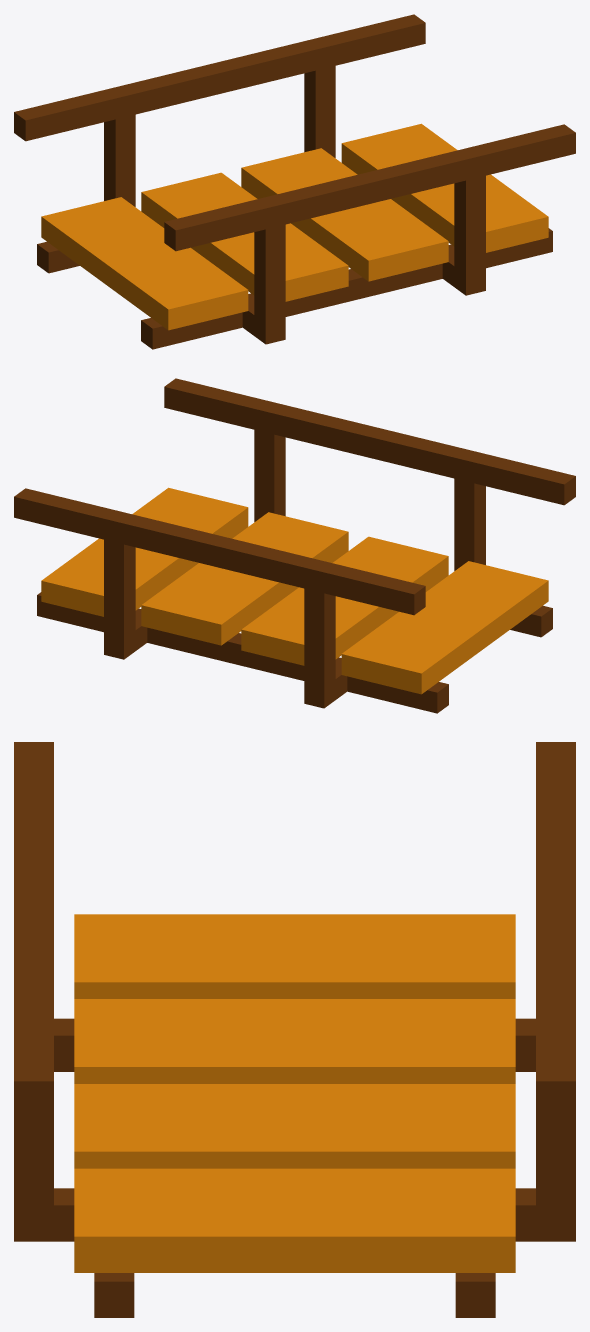
The model's file is fence.fbx.
3 views of the same model, one above another, from view 1: azimuth 30°, elevation 25°; view 2: azimuth 150°, elevation 25°; view 3: azimuth 270°, elevation 25° (orthographic). The views are drawn at different scales.
Parts seen in each view (by area): view 1: Cube; view 2: Cube; view 3: Cube.
Boxes of the visible parts, x1=… form: Cube: x1=14, y1=14, x2=575, y2=349; Cube: x1=14, y1=378, x2=575, y2=713; Cube: x1=14, y1=742, x2=575, y2=1317.
Size of the model in its own units: 400 by 130 by 280.
